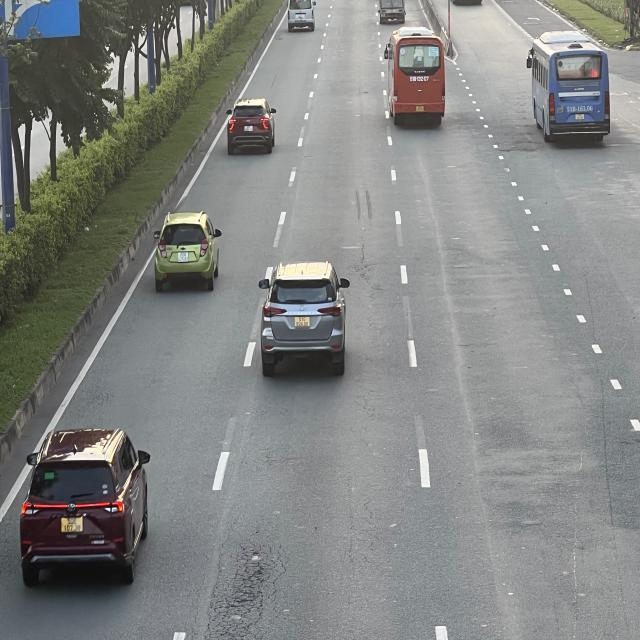car: (18, 427, 152, 584), (256, 260, 348, 374), (155, 210, 224, 290), (228, 101, 280, 158)
coach: (526, 30, 610, 141), (386, 28, 452, 124)
